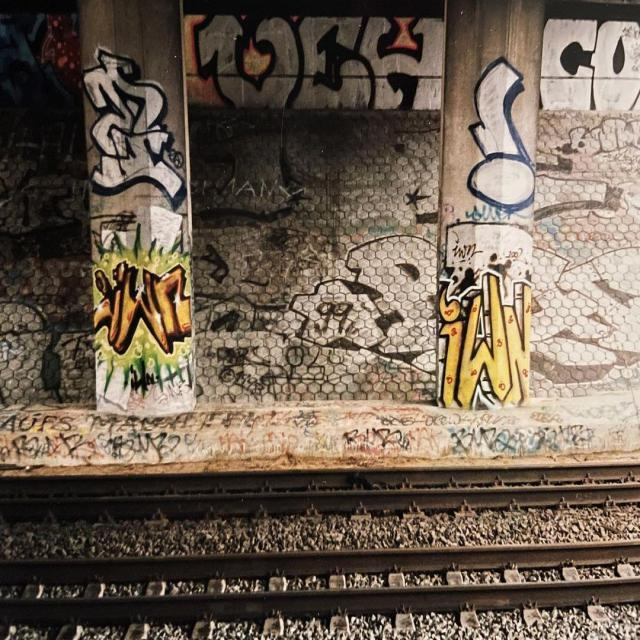-: (188, 11, 448, 113), (72, 44, 190, 218), (80, 225, 192, 363), (434, 263, 534, 410), (454, 52, 534, 224), (544, 15, 638, 111), (454, 423, 587, 457), (2, 404, 76, 442), (340, 418, 410, 452), (125, 362, 164, 398), (449, 234, 482, 269), (506, 236, 525, 269)
